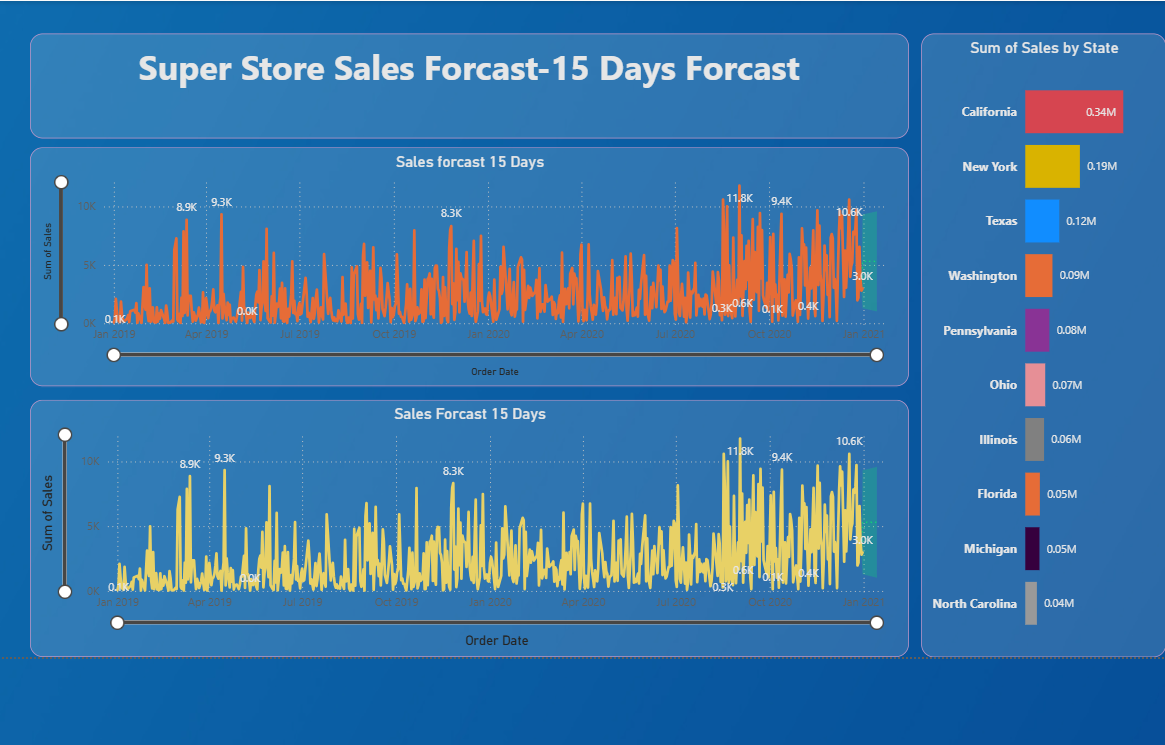

What the dashboard file says about the page in this screenshot:
{"tool":"powerbi","page":{"name":"Page 2","canvas":[1280,720],"ordinal":1},"visuals":[{"type":"lineChart","title":"Sales forcast 15 Days","fields":{"Y":["Sum(SuperStore_Sales_Dataset.Sales)"],"Category":["SuperStore_Sales_Dataset.Order Date"]},"box":[32.9,160.5,964.7,262.1],"z":0},{"type":"lineChart","title":"Sales Forcast 15 Days","fields":{"Y":["Sum(SuperStore_Sales_Dataset.Sales)"],"Category":["SuperStore_Sales_Dataset.Order Date"]},"box":[32.9,437.7,964.7,282.7],"z":1},{"type":"barChart","fields":{"Category":["SuperStore_Sales_Dataset.State"],"Y":["Sum(SuperStore_Sales_Dataset.Sales)"]},"box":[1011.3,35.7,269,684.7],"z":2},{"type":"textbox","box":[32.9,35.7,964.7,115.3],"z":3}]}

Visuals, with their boxes on the page's 1280x720 design canvas (x1, y1, x2, y2). These are canvas units, not pixel positions in the 1165x745 screenshot, which may show the page scaled, cropped or inside an application window:
"Sales forcast 15 Days" lineChart: bbox(33, 160, 998, 423)
"Sales Forcast 15 Days" lineChart: bbox(33, 438, 998, 720)
barChart - SuperStore_Sales_Dataset.State x Sum(SuperStore_Sales_Dataset.Sales): bbox(1011, 36, 1280, 720)
textbox: bbox(33, 36, 998, 151)
